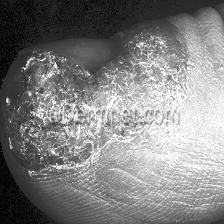Non-Cancerous Skin Condition: (0, 20, 185, 174)
